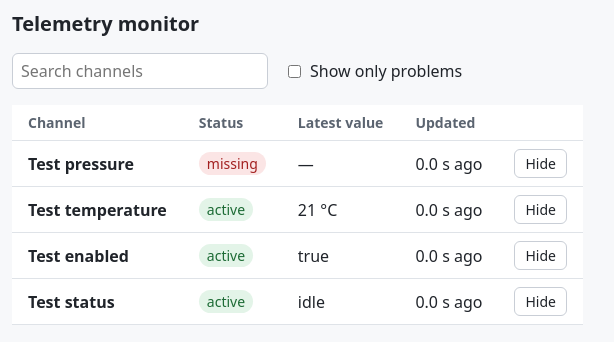
Test: telemetry monitor › filters › hides channels and brings them back
Click the button with aria-label "Hide Test pressure" at (541, 164), box [514,149,567,178]
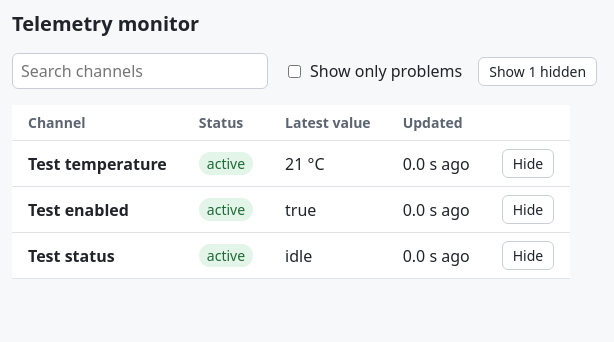
Click the button with aria-label "Hide Test status" at (528, 256), box [502,241,554,270]
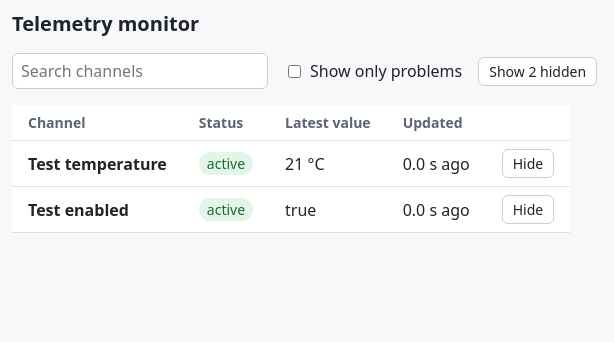
Click the button "Show 2 hidden" at (538, 71), box [478,57,597,86]
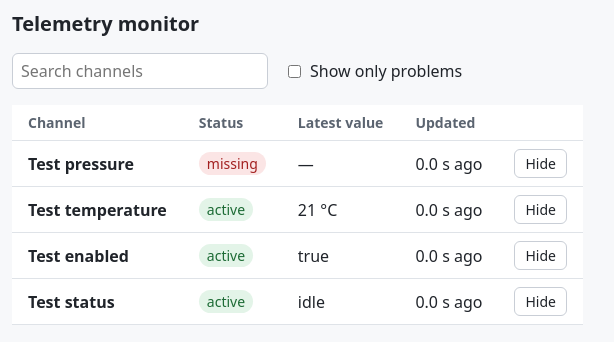
Expected: the button "hidden" is gone
